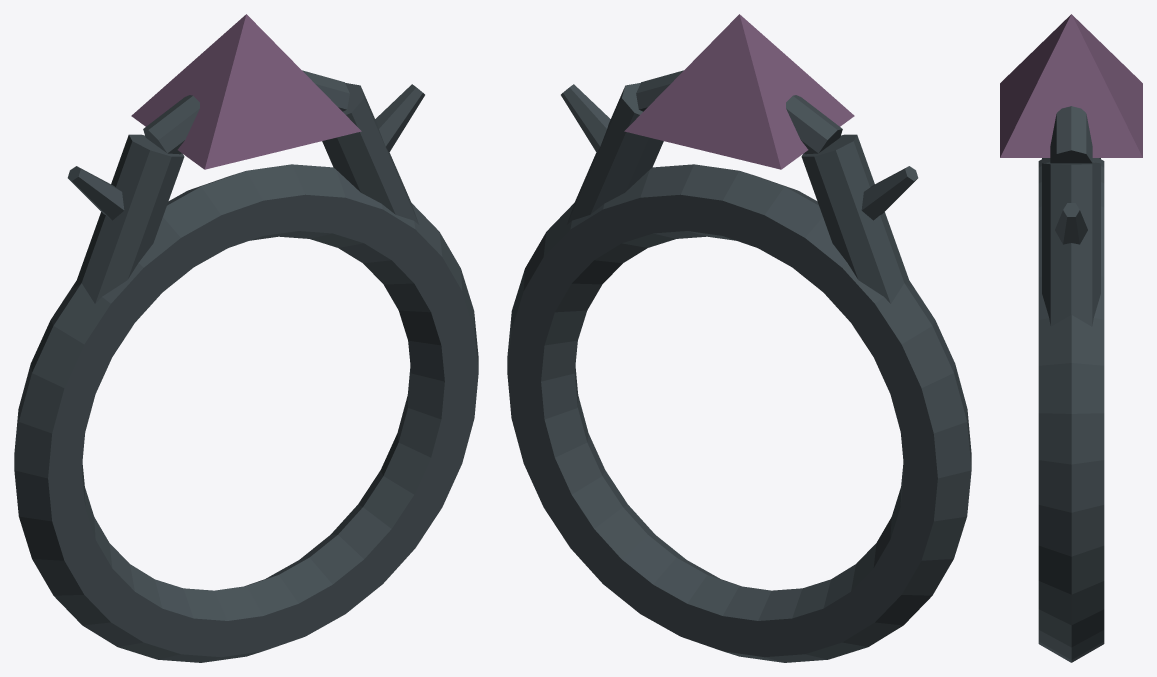
The model's file is AE_Item_ThornWidow.fbx.
3 views of the same model, side by side, from view 1: azimuth 30°, elevation 25°; view 2: azimuth 150°, elevation 25°; view 3: azimuth 270°, elevation 25° (orthographic). The views are drawn at different scales.
Parts seen in each view (by area): view 1: AE_Item_ThornWidow; view 2: AE_Item_ThornWidow; view 3: AE_Item_ThornWidow.
Boxes of the visible parts, x1,y1,x2,y2 form: AE_Item_ThornWidow: (14, 14, 478, 662); AE_Item_ThornWidow: (507, 14, 971, 662); AE_Item_ThornWidow: (1000, 14, 1142, 662).
Size of the model in its own units: 0.124 by 0.164 by 0.034.
